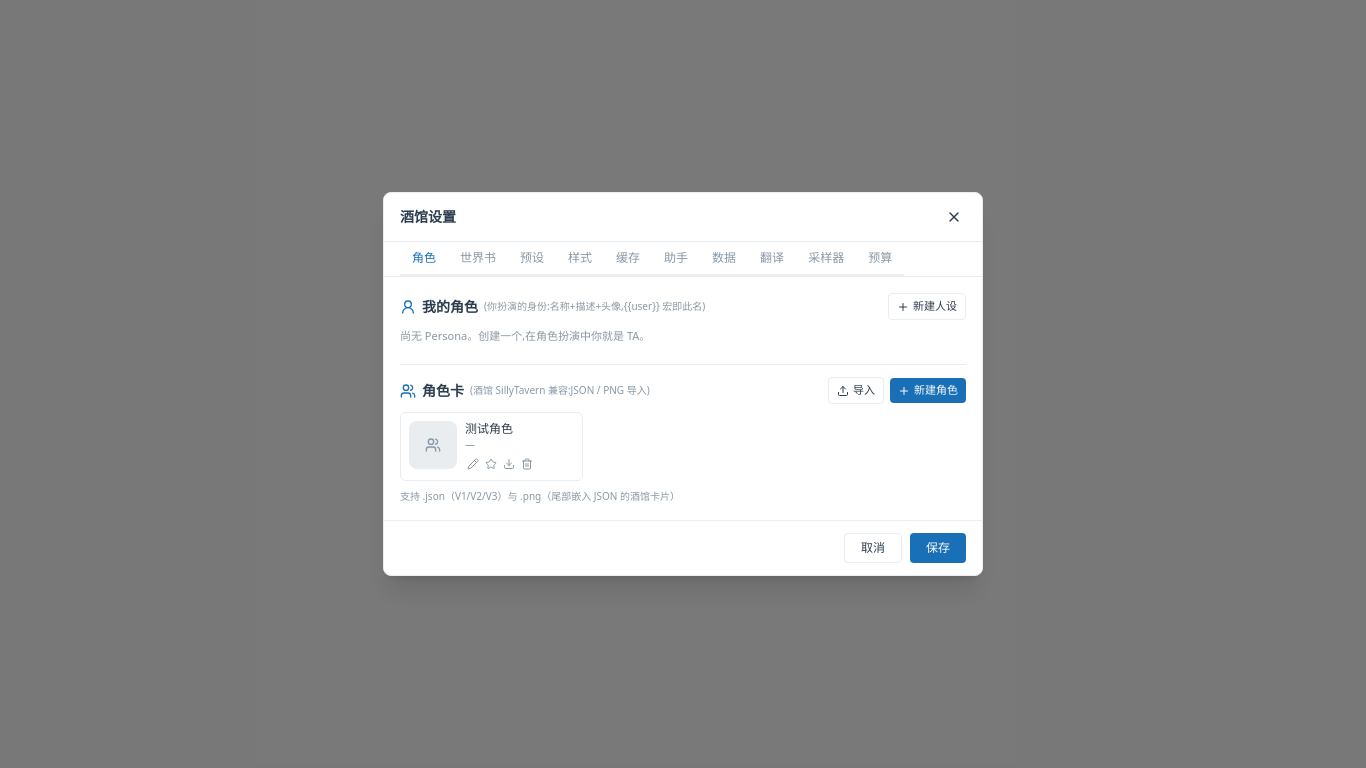
Scenario: 全局条目名册：逐条开关（2026-09-25 改造） › 页顶「返回」切回设置的上一层 tab，且**不关闭弹窗**
Click the button "预设" at [532, 259], box 508,242 -> 556,276
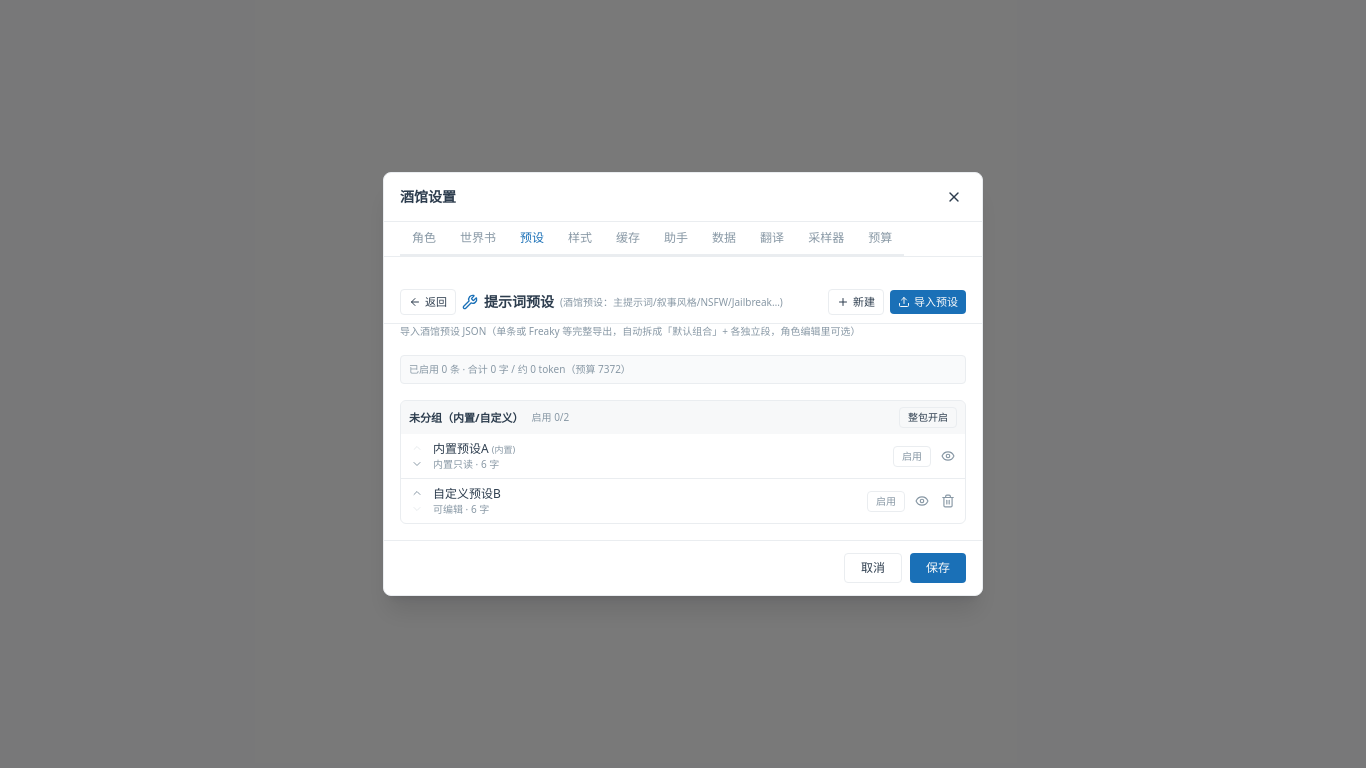
Check: the button "导入预设" is shown, box 890,290 -> 966,314
Click the button "返回" at [428, 302], box 400,289 -> 456,315
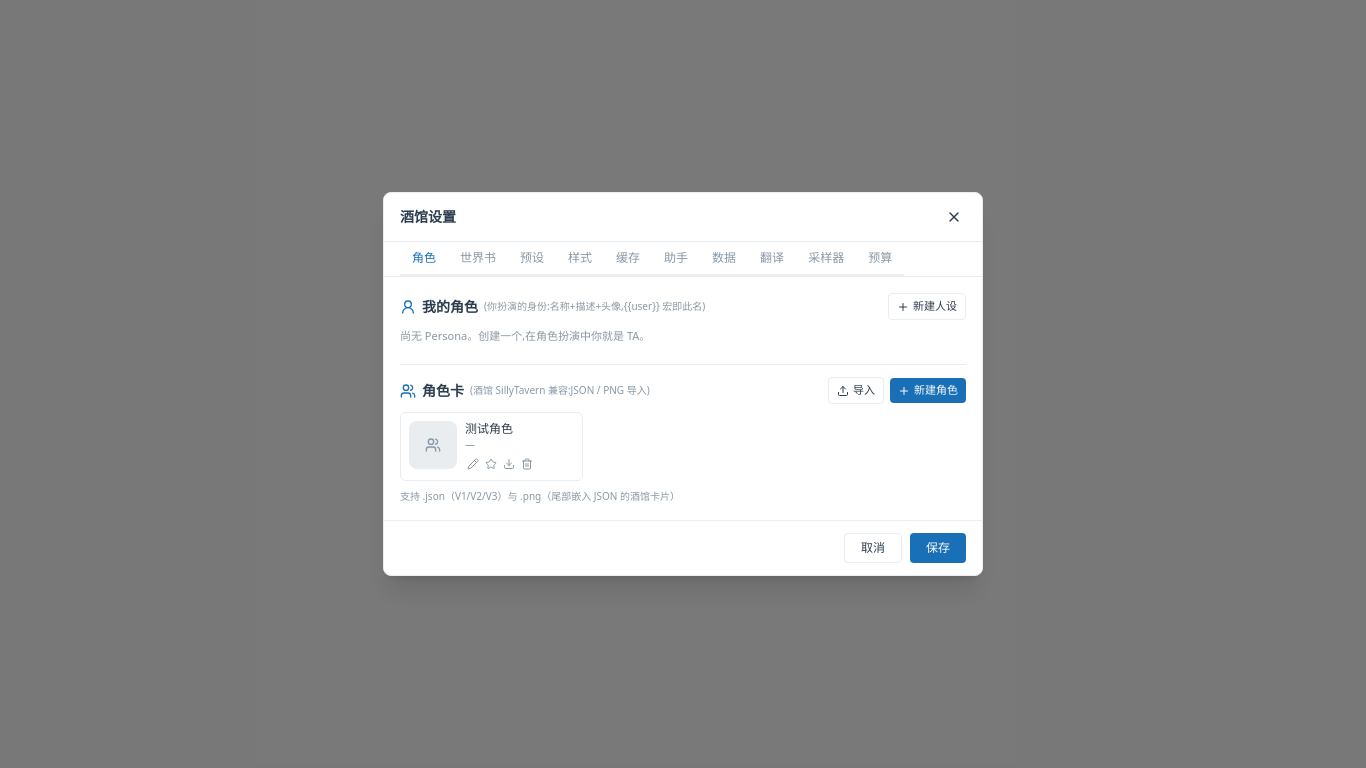
Check: the heading "酒馆设置" is shown, box 400,207 -> 456,227
Check: the button "导入预设" is gone
Check: the button "新建人设" is shown, box 888,293 -> 966,320
